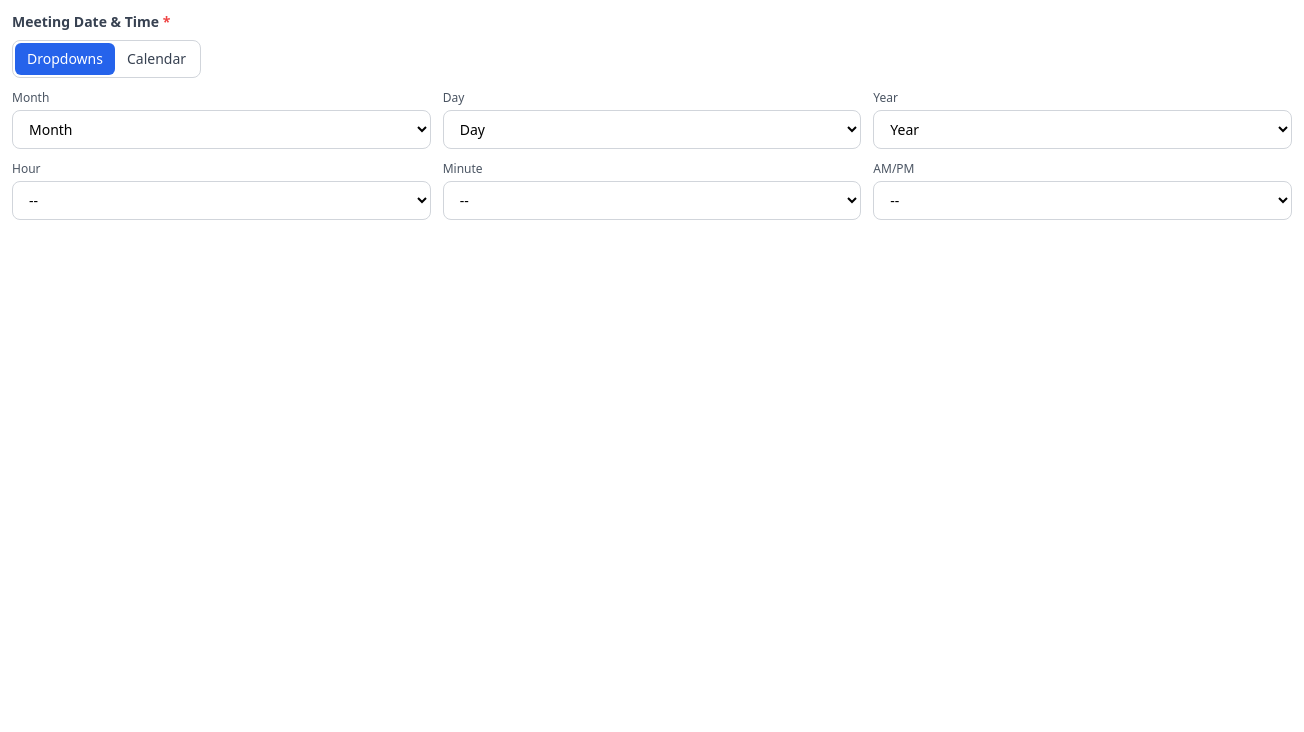
Test: only days inside the three-month window can be picked
Step 1. Click the button "Calendar" → coordinates (157, 59), box [115,43,198,75]
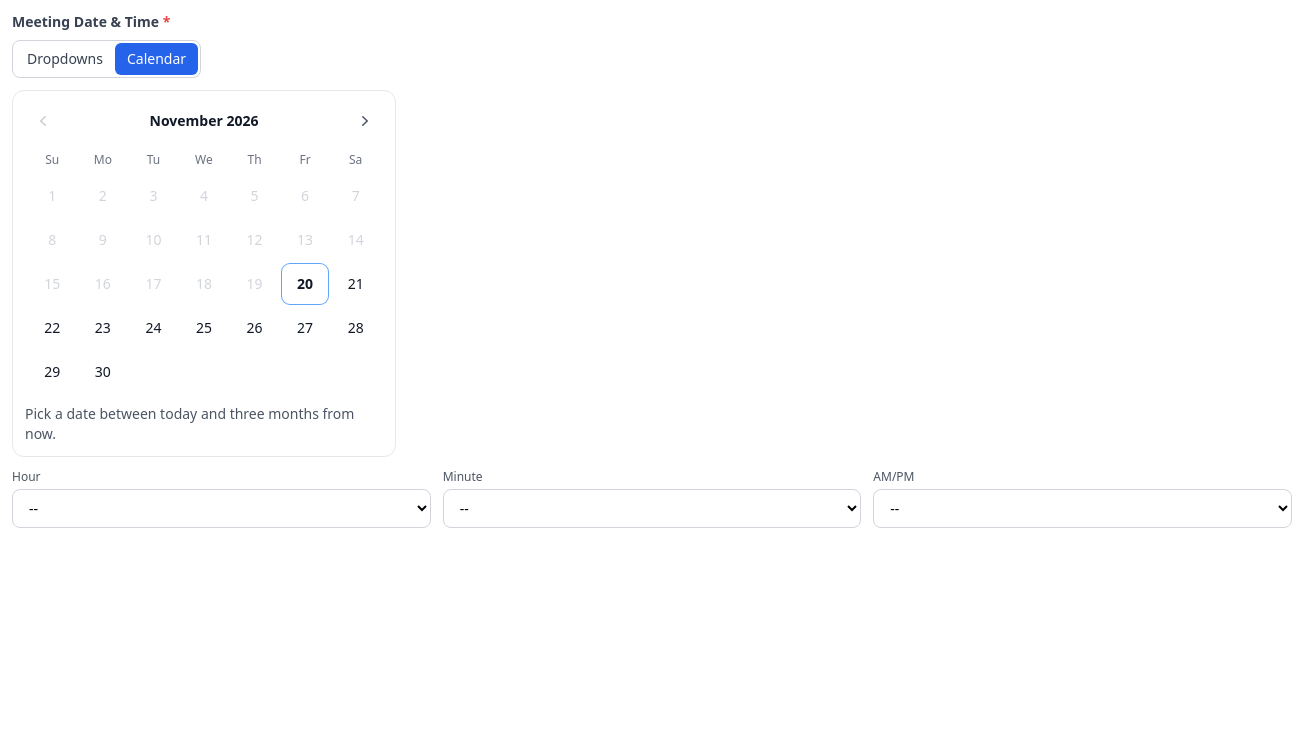
Expected: the button named "Thursday, November 19, 2026" is disabled, [231,264,278,304]
Expected: the button named "Friday, November 20, 2026" is enabled, [282,264,328,304]
Expected: the button named "Previous month" is disabled, [25,103,61,139]
Step 2. Click the button named "Next month" → coordinates (365, 121), box [347,103,383,139]
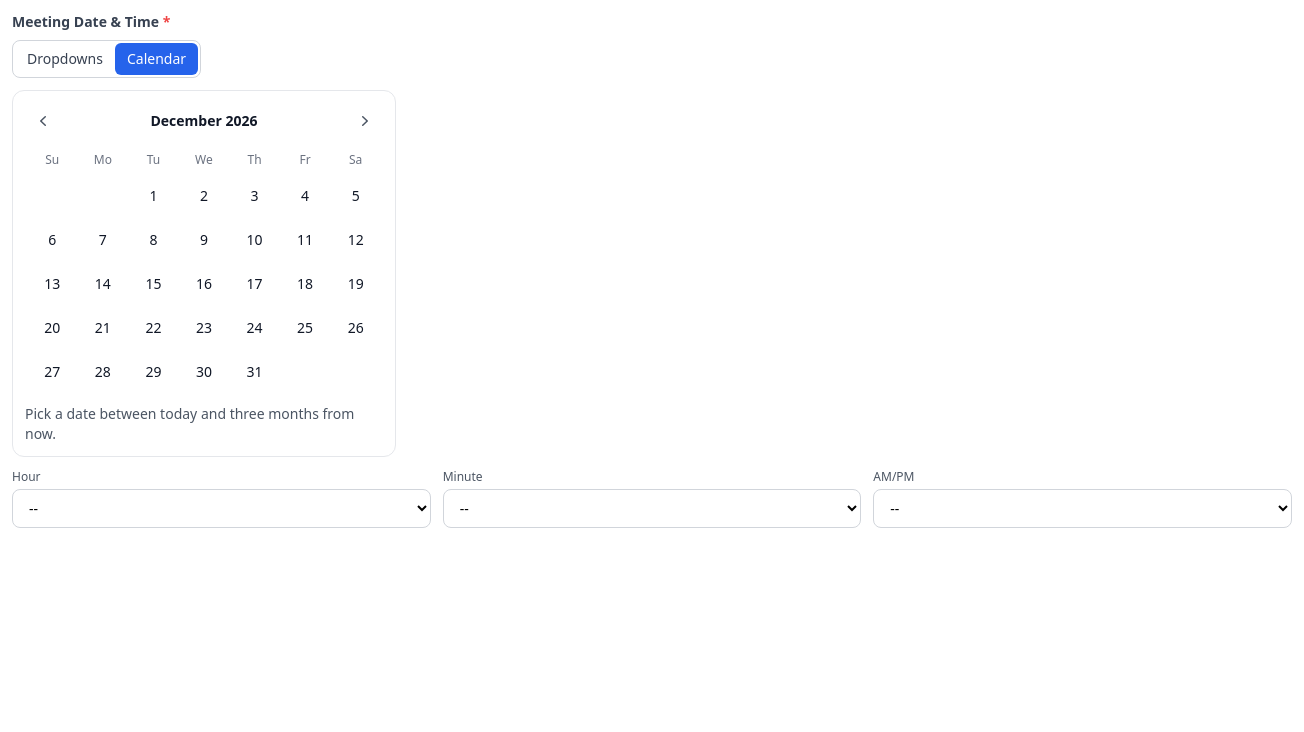
Step 3. Click the button named "Next month" → coordinates (365, 121), box [347,103,383,139]
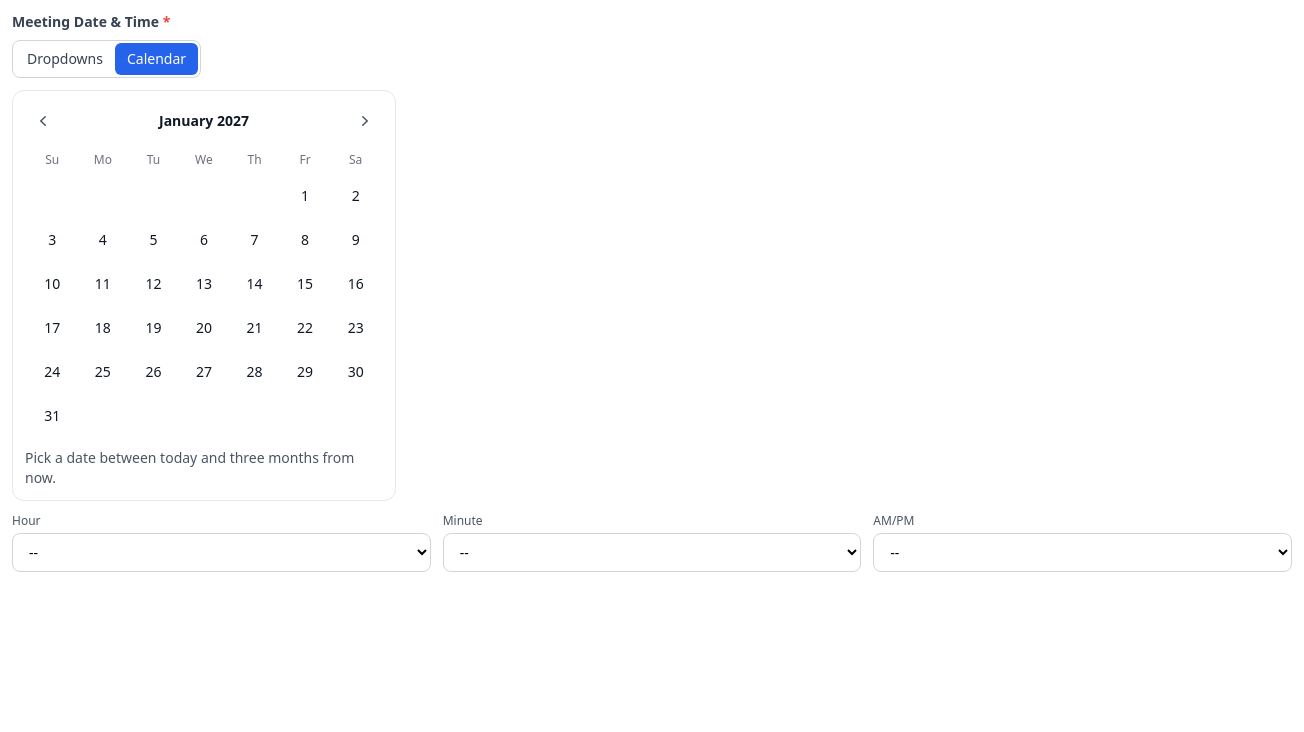
Step 4. Click the button named "Next month" → coordinates (365, 121), box [347,103,383,139]
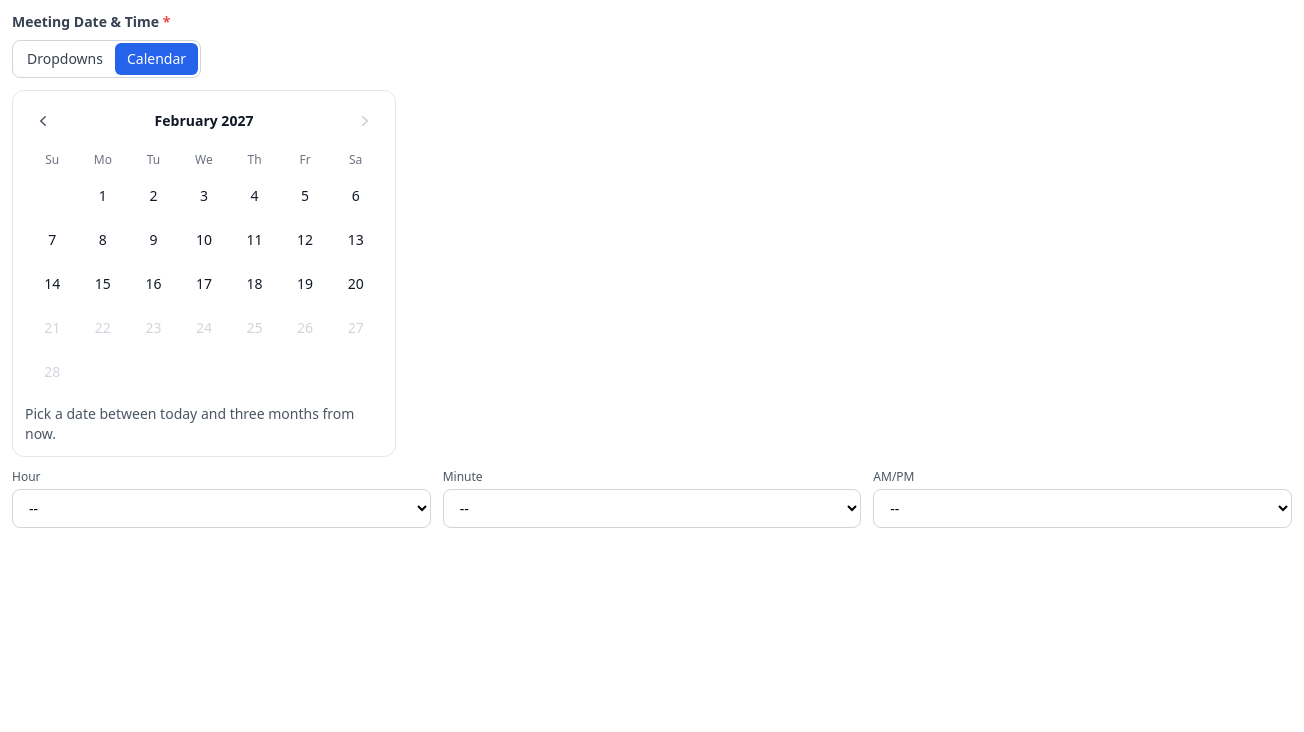
Expected: the table named "February 2027" is shown, [25,147,383,396]
Expected: the button named "Saturday, February 20, 2027" is enabled, [332,264,379,304]
Expected: the button named "Sunday, February 21, 2027" is disabled, [29,308,76,348]
